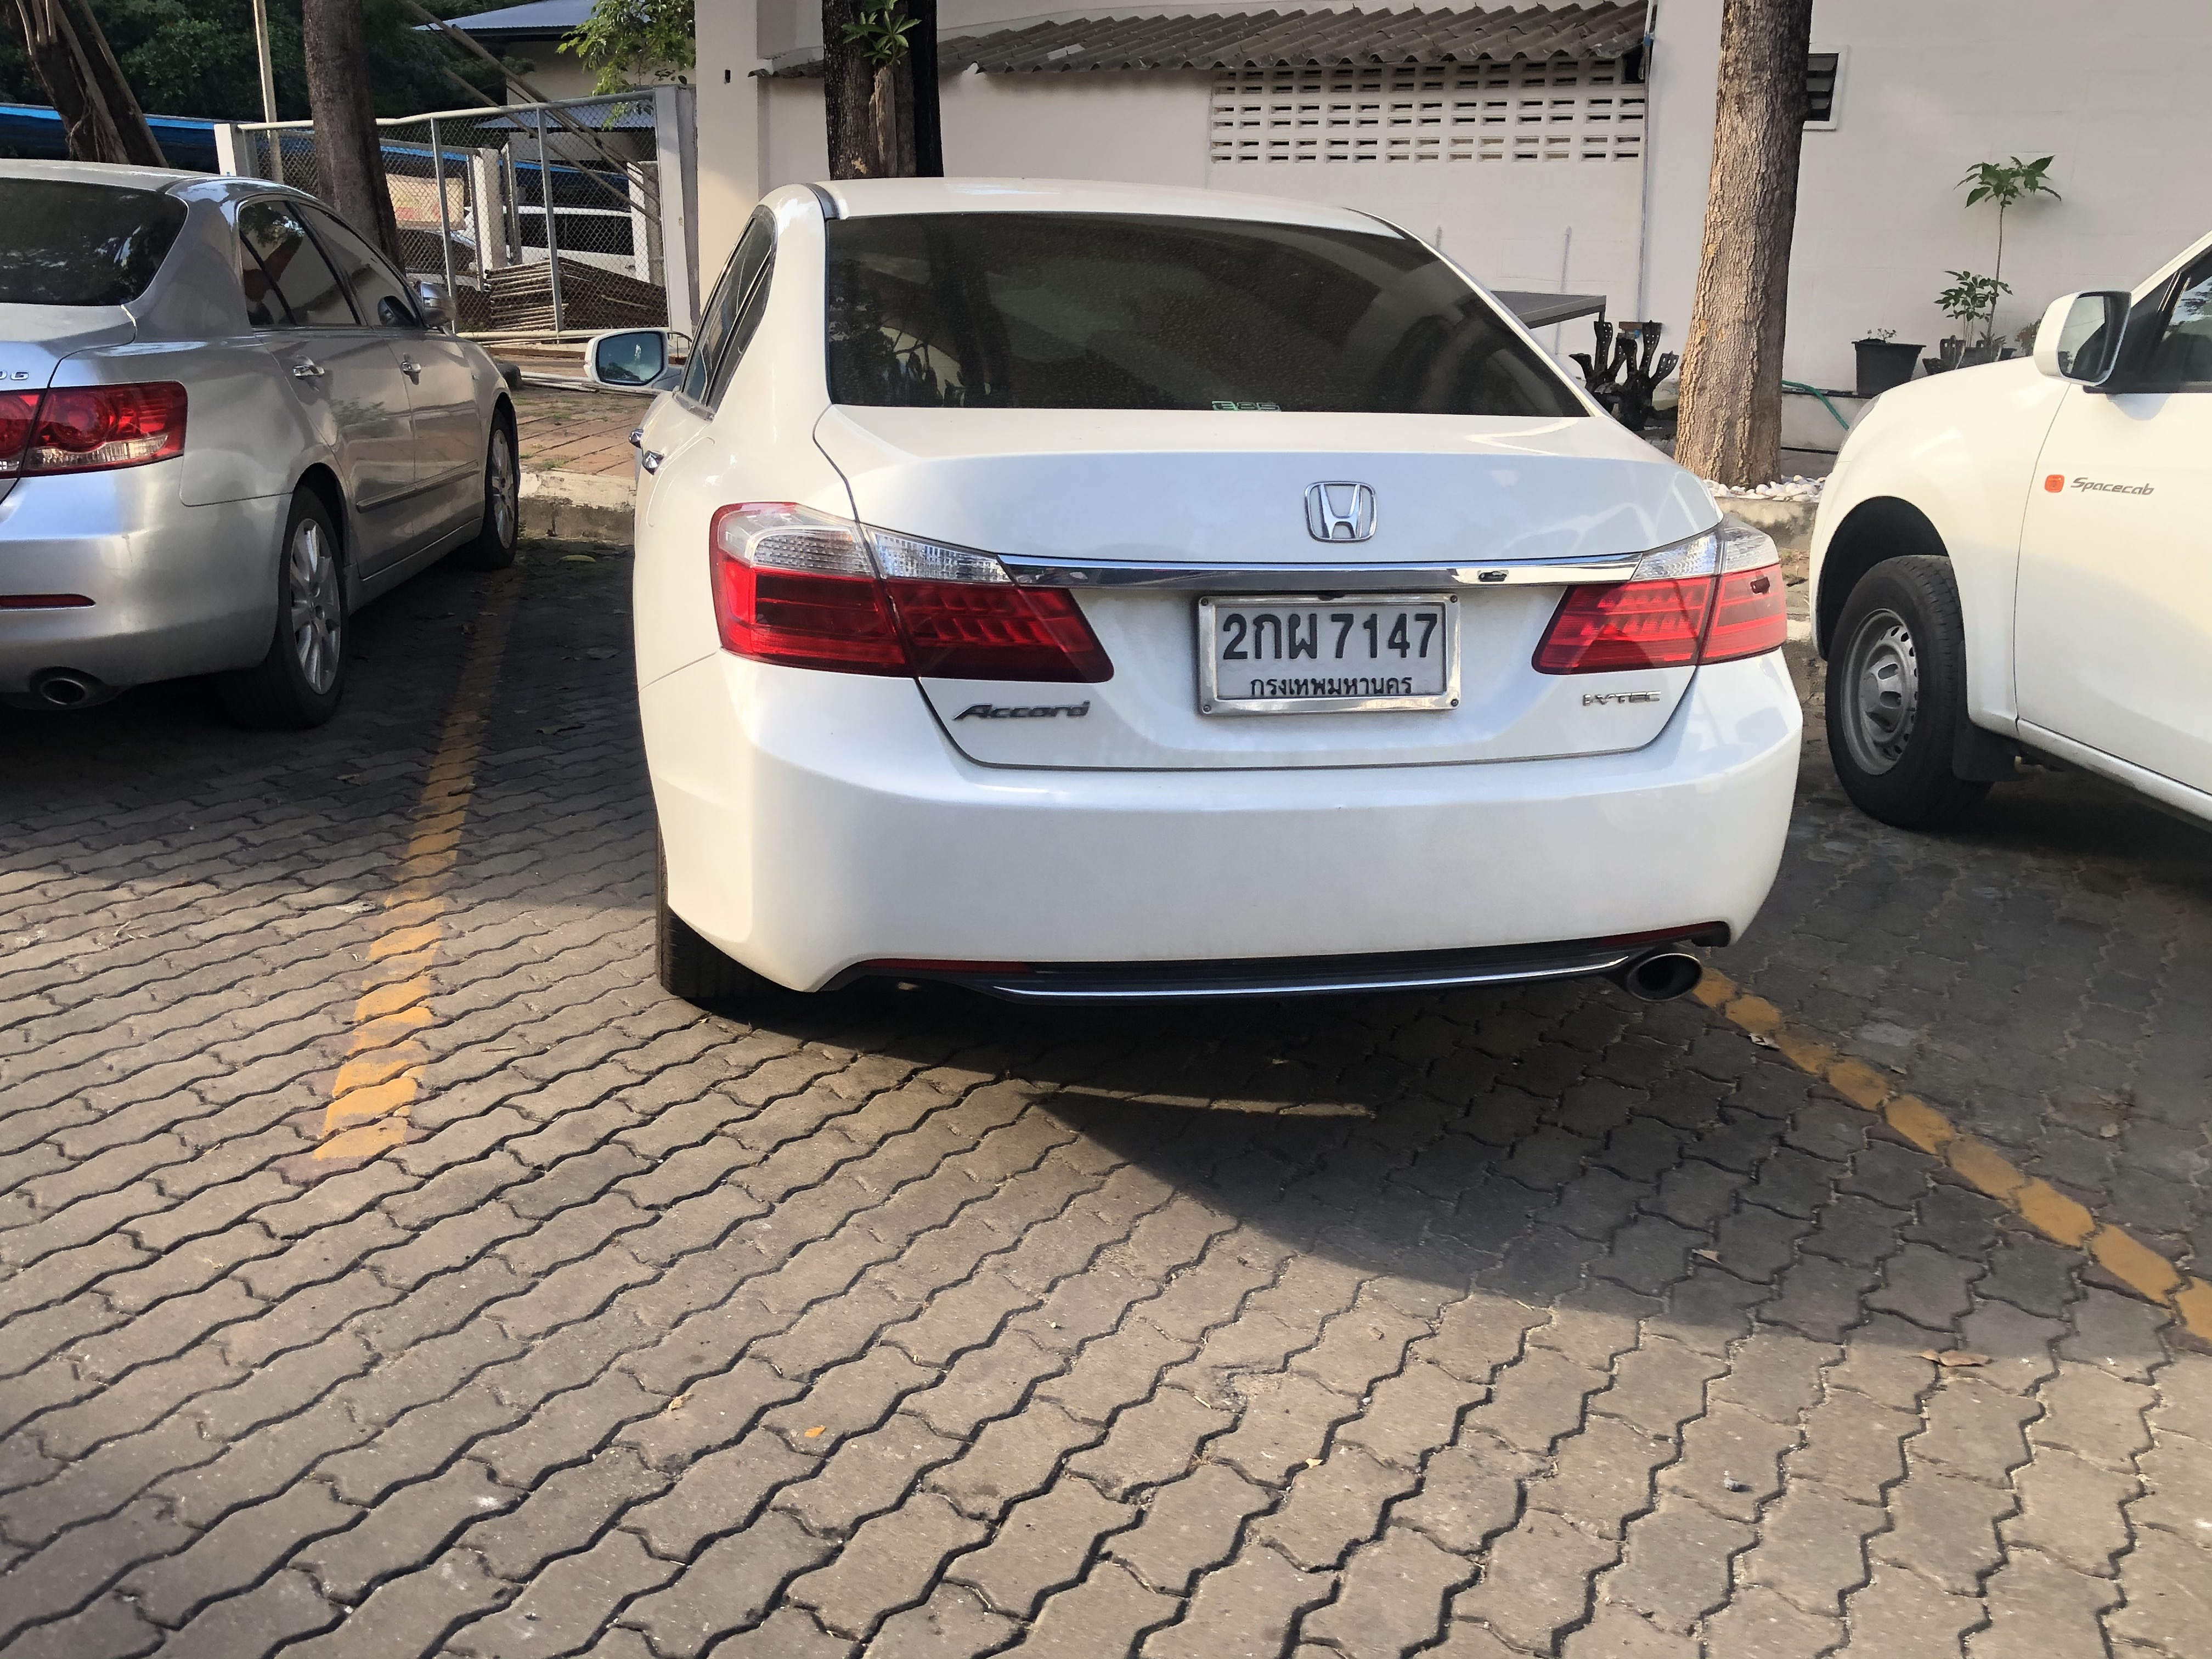in: (1214, 606, 1449, 695)
out: (1190, 589, 1460, 714)
